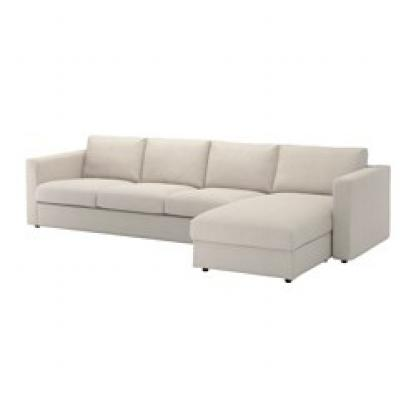Sofa: (13, 105, 396, 293)
